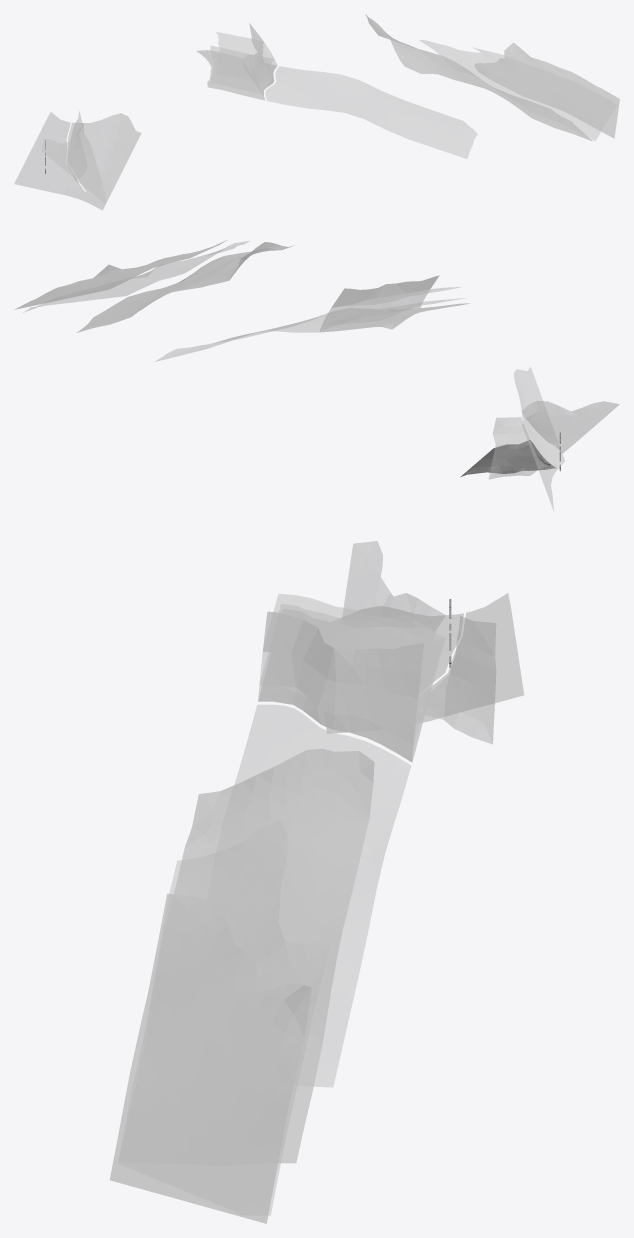
File: suidao_25.glb
3 views of the same model, one above another, from view 1: azimuth 30°, elevation 25°; view 2: azimuth 150°, elevation 25°; view 3: azimuth 270°, elevation 25° (orthographic). The views are drawn at different scales.
Visible parts, largest first — view 1: Layer:S2H F5 YOU 6, Layer:p3c 4, Layer:T1J1 5, Layer:p2q 5 1, Layer:p3l 6, Layer:S2H ZUO 3, Layer:p3l 4, Layer:P2M F5 YOU 5 1, Layer:p2q 1 1, Layer:P1L F5 ZUO 5, Layer:P2Q F5 ZUO 2, Layer:S2H F5 ZUO 5 (+4 smaller); view 2: Layer:p3l 6, Layer:P2M F5 YOU 5 1, Layer:p2q 1 1, Layer:F4 YOU 5, Layer:p3l 4, Layer:p3c 4, Layer:S2H F5 ZUO 8, Layer:T1J1 5, Layer:S2H ZUO 3, Layer:S2H F5 YOU 6, Layer:p2q 5 1, Layer:detach_F5 7 1 (+7 smaller); view 3: Layer:p3c 4, Layer:T1J1 5, Layer:p3l 6, Layer:P2M F5 YOU 5 1, Layer:S2H F5 YOU 6, Layer:p3l 4, Layer:P1L F5 ZUO 5, Layer:p2q 5 1, Layer:detach_F5 7 1, Layer:P2M F5 ZUO 3, Layer:F4 YOU 5, Layer:P2Q F5 ZUO 6 (+5 smaller).
Boxes of the visible parts, <box> form: Layer:S2H F5 YOU 6: <box>265,66,477,158</box>; Layer:p3c 4: <box>474,42,619,138</box>; Layer:T1J1 5: <box>475,43,619,137</box>; Layer:p2q 5 1: <box>14,112,105,210</box>; Layer:p3l 6: <box>365,15,592,141</box>; Layer:S2H ZUO 3: <box>82,113,141,203</box>; Layer:p3l 4: <box>419,40,600,140</box>; Layer:P2M F5 YOU 5 1: <box>366,15,591,140</box>; Layer:p2q 1 1: <box>41,123,105,203</box>; Layer:P1L F5 ZUO 5: <box>210,45,273,94</box>; Layer:P2Q F5 ZUO 2: <box>216,32,257,81</box>; Layer:S2H F5 ZUO 5: <box>197,50,276,100</box>; Layer:p3l 6: <box>77,242,293,332</box>; Layer:P2M F5 YOU 5 1: <box>77,242,291,332</box>; Layer:p2q 1 1: <box>522,400,619,453</box>; Layer:F4 YOU 5: <box>489,417,546,479</box>; Layer:p3l 4: <box>23,241,249,312</box>; Layer:p3c 4: <box>15,240,226,309</box>; Layer:S2H F5 ZUO 8: <box>460,440,556,476</box>; Layer:T1J1 5: <box>17,241,224,308</box>; Layer:S2H ZUO 3: <box>514,367,561,452</box>; Layer:S2H F5 YOU 6: <box>155,308,411,361</box>; Layer:p2q 5 1: <box>522,413,564,510</box>; Layer:detach_F5 7 1: <box>332,275,439,307</box>; Layer:p3c 4: <box>110,893,311,1223</box>; Layer:T1J1 5: <box>110,894,311,1223</box>; Layer:p3l 6: <box>174,748,374,1163</box>; Layer:P2M F5 YOU 5 1: <box>182,749,373,1162</box>; Layer:S2H F5 YOU 6: <box>234,704,411,1087</box>; Layer:p3l 4: <box>169,820,329,1215</box>; Layer:P1L F5 ZUO 5: <box>260,604,439,744</box>; Layer:p2q 5 1: <box>326,593,523,733</box>; Layer:detach_F5 7 1: <box>262,611,424,698</box>; Layer:P2M F5 ZUO 3: <box>263,612,423,698</box>; Layer:F4 YOU 5: <box>425,616,496,744</box>; Layer:P2Q F5 ZUO 6: <box>259,652,417,744</box>.
Size of the model in its own units: 4527 by 1000 by 1459.
20 materials, 1 textured.
